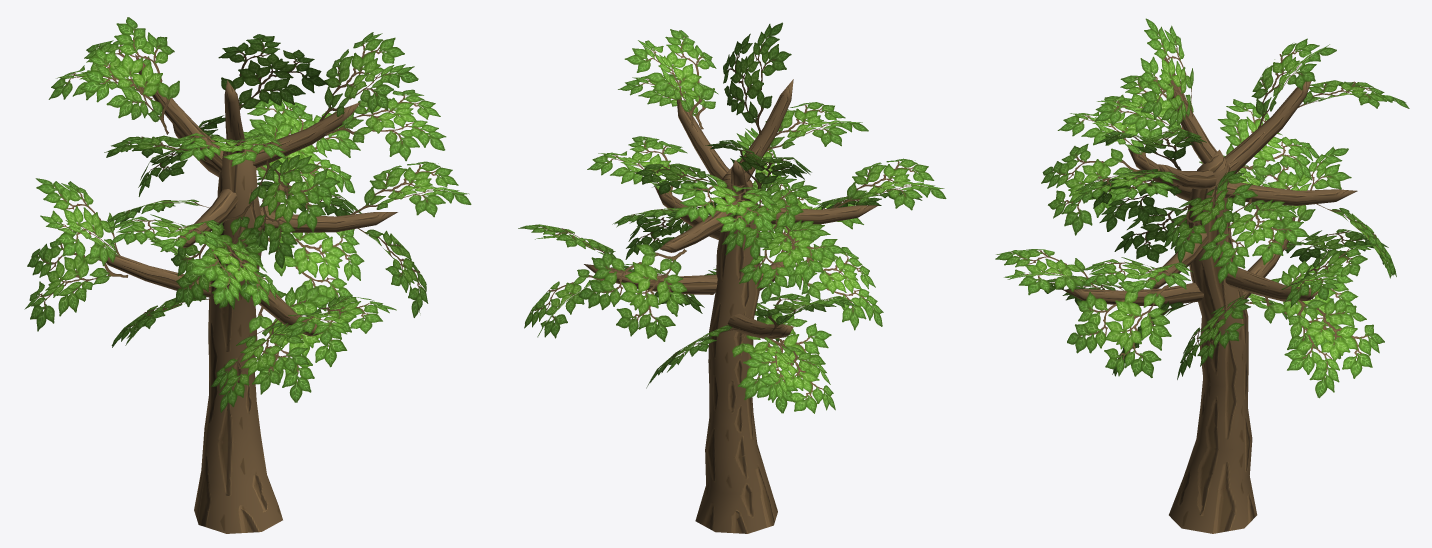
File: Ctn_Tree_02_v02.FBX
The picture shows the model from 3 angles, left to right: view 1: azimuth 30°, elevation 25°; view 2: azimuth 150°, elevation 25°; view 3: azimuth 270°, elevation 25°; orthographic projection. The views are drawn at different scales.
Visible parts, largest first — view 1: Ctn_Tree_02_v02; view 2: Ctn_Tree_02_v02; view 3: Ctn_Tree_02_v02.
Boxes of the visible parts, x1,y1,x2,y2 form: Ctn_Tree_02_v02: (24,17,471,533); Ctn_Tree_02_v02: (518,22,946,533); Ctn_Tree_02_v02: (995,18,1409,533).
Size of the model in its own units: 6359 by 8352 by 6669.
